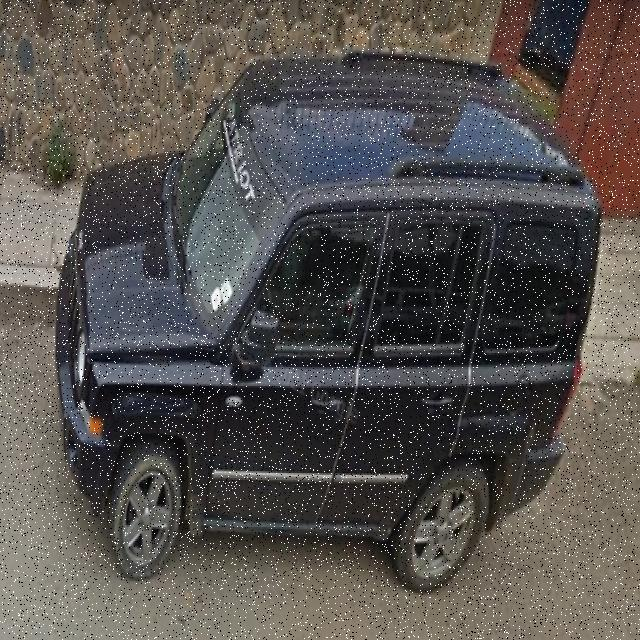cars: (54, 43, 607, 607)
